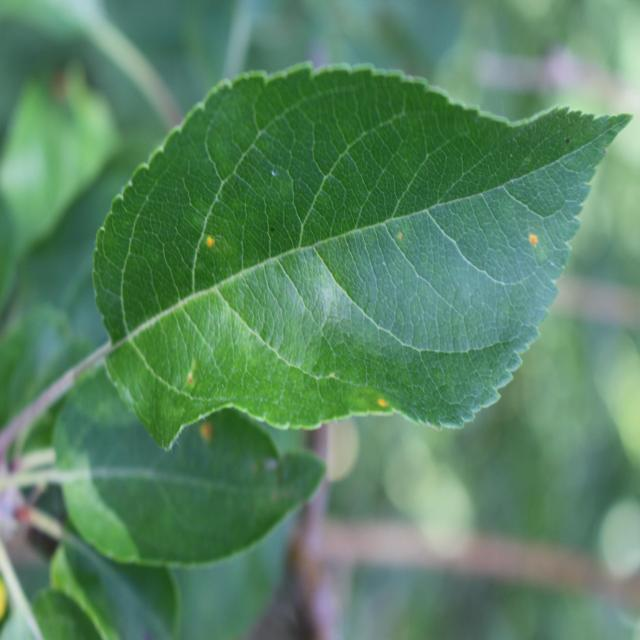Rust: (197, 222, 224, 266), (523, 228, 548, 262), (369, 388, 392, 424), (395, 218, 409, 255)
